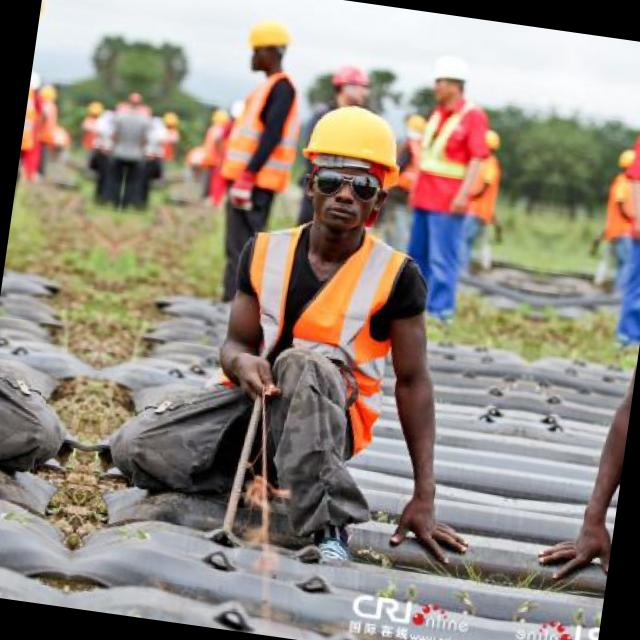helmet: (287, 92, 410, 248), (419, 43, 476, 114), (240, 12, 296, 76), (322, 53, 376, 107)
